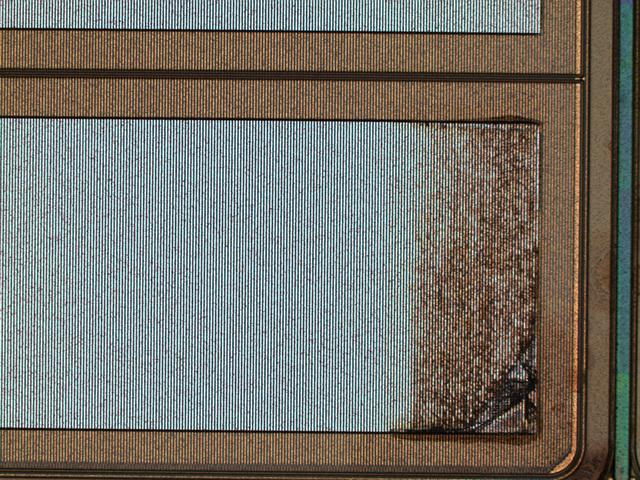SEZ BURNT: (387, 114, 629, 480)
